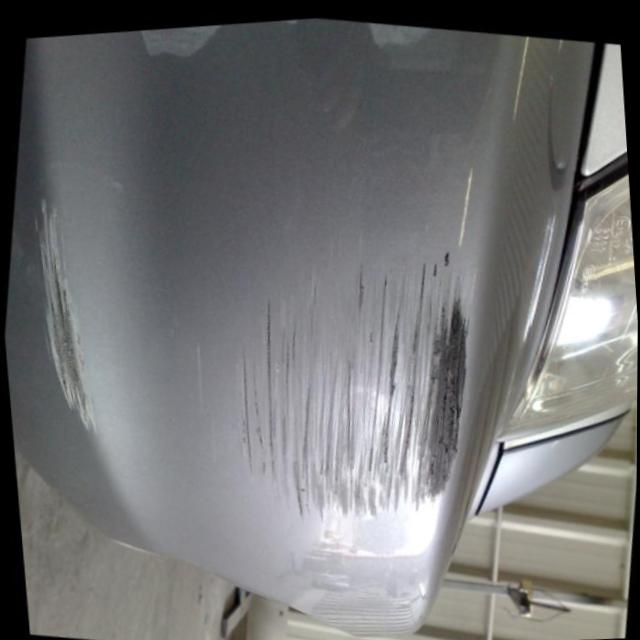Scratch: (238, 269, 478, 520)
